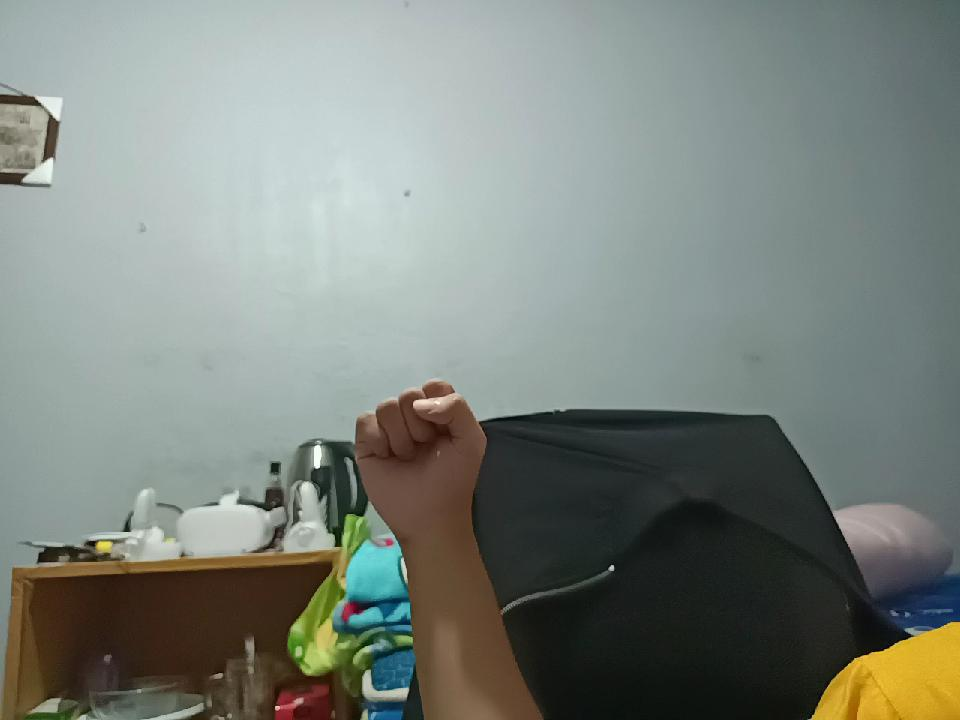rock: (346, 375, 476, 538)
